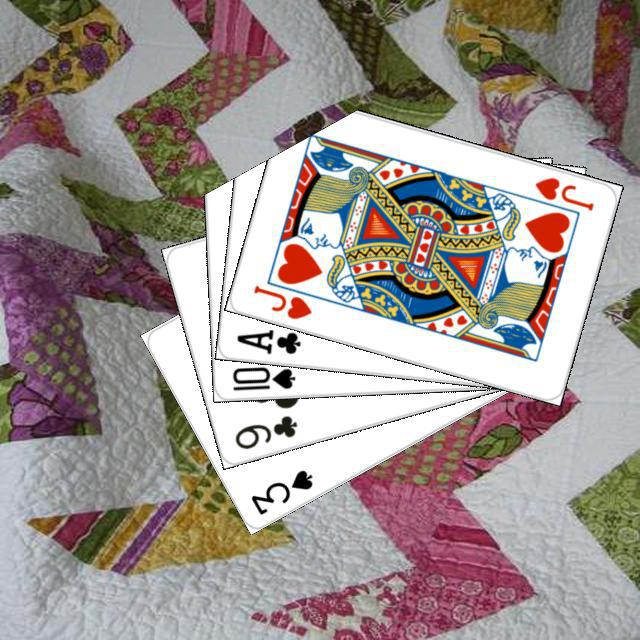10s: (227, 362, 297, 392)
3s: (246, 464, 315, 517)
9c: (229, 410, 299, 451)
Ac: (231, 325, 303, 356)
Jh: (248, 280, 314, 321), (530, 172, 595, 213)
